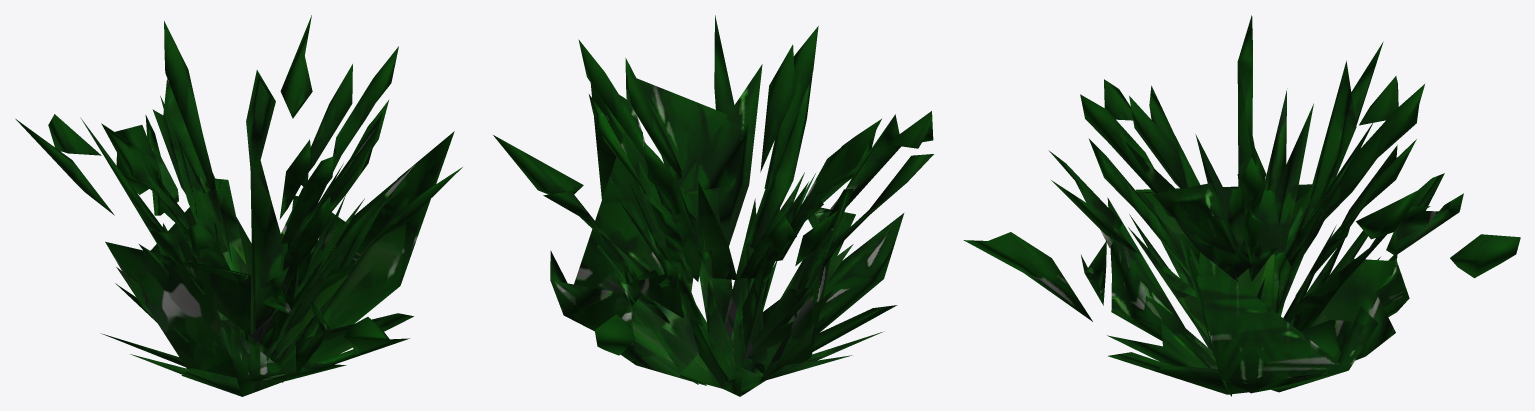
The model's file is arbusto3.fbx.
The picture shows the model from 3 angles, left to right: view 1: azimuth 30°, elevation 25°; view 2: azimuth 150°, elevation 25°; view 3: azimuth 270°, elevation 25°; orthographic projection. The views are drawn at different scales.
Visible parts, largest first — view 1: tripo_node_6ffa91e9; view 2: tripo_node_6ffa91e9; view 3: tripo_node_6ffa91e9.
Part boxes in pixels (x1,y1,x2,y2): tripo_node_6ffa91e9: [15, 15, 462, 396]; tripo_node_6ffa91e9: [493, 15, 933, 396]; tripo_node_6ffa91e9: [963, 15, 1520, 396].
Size of the model in its own units: 0.6891 by 0.5792 by 0.9603.
1 material, 1 textured.
